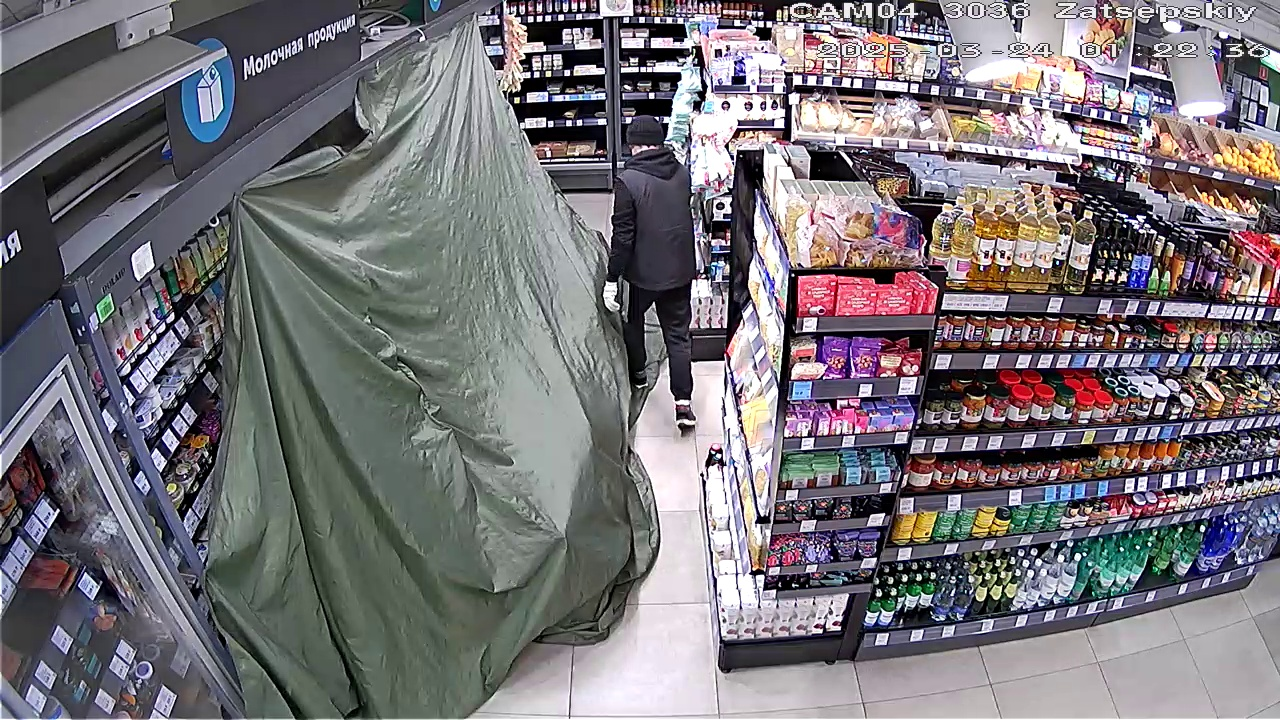Human: (597, 104, 700, 432)
dome: (209, 42, 653, 713)
